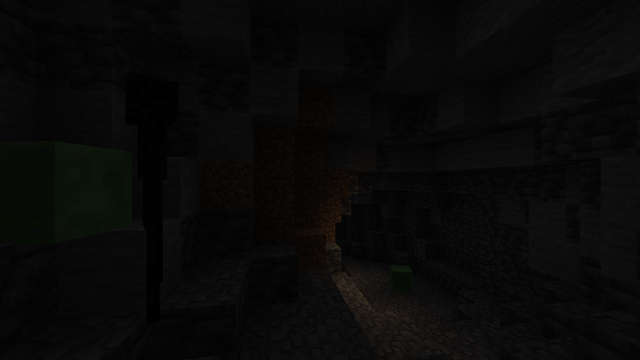endermens: (109, 64, 185, 326)
slimes: (4, 136, 97, 242), (387, 263, 415, 291)
